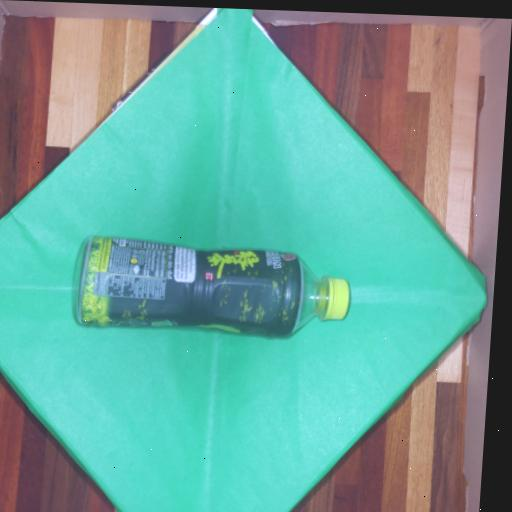bottle: (65, 212, 367, 356)
